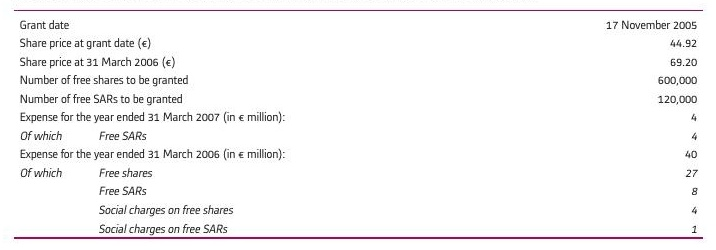table: (0, 0, 716, 250)
